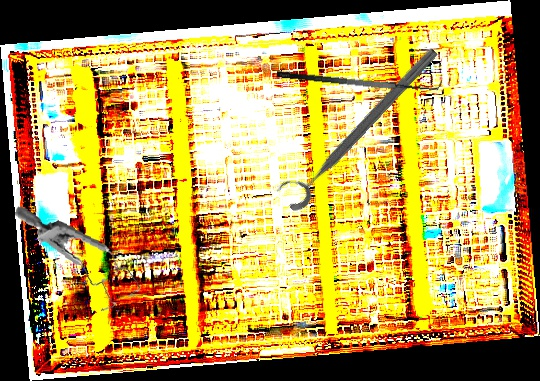Fixation Ring: (271, 34, 444, 216)
Spatula Surgical: (276, 57, 443, 99)
Speculum: (4, 205, 150, 316)
